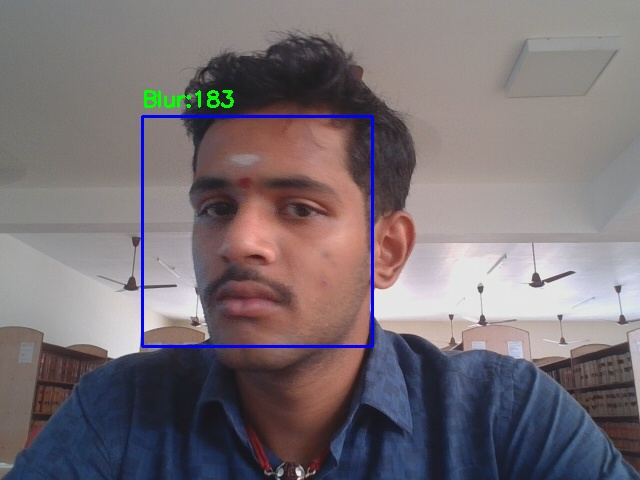real: (142, 116, 372, 346)
